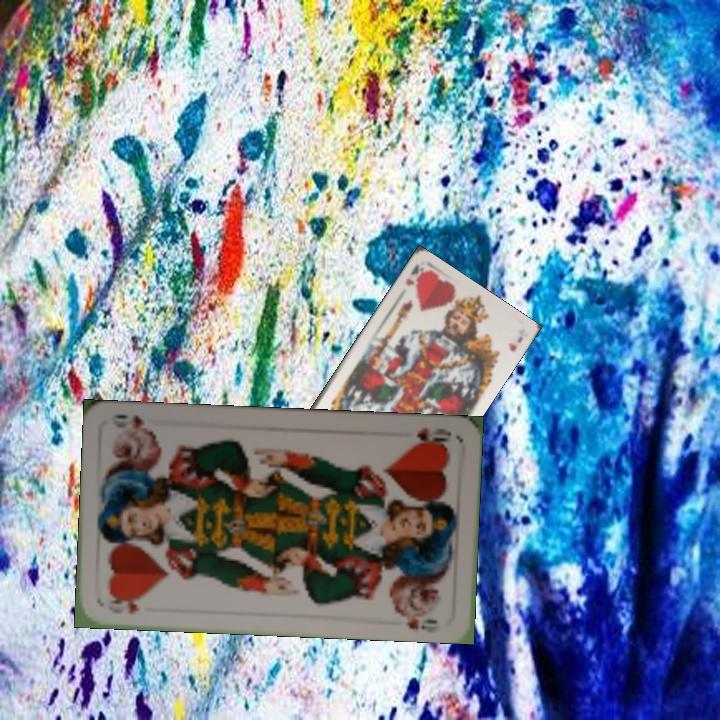HK: (401, 261, 428, 290)
HO: (407, 424, 454, 449), (102, 593, 146, 616)
